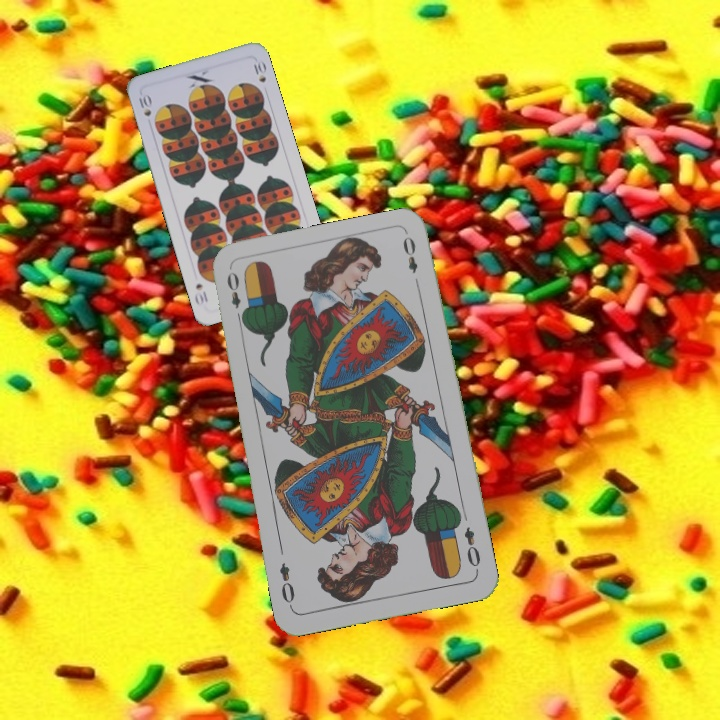EO: (223, 267, 248, 326), (460, 523, 483, 574)
S10: (135, 92, 154, 119)
